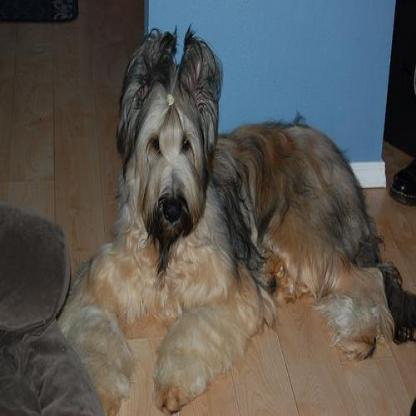briard: (55, 28, 412, 412)
